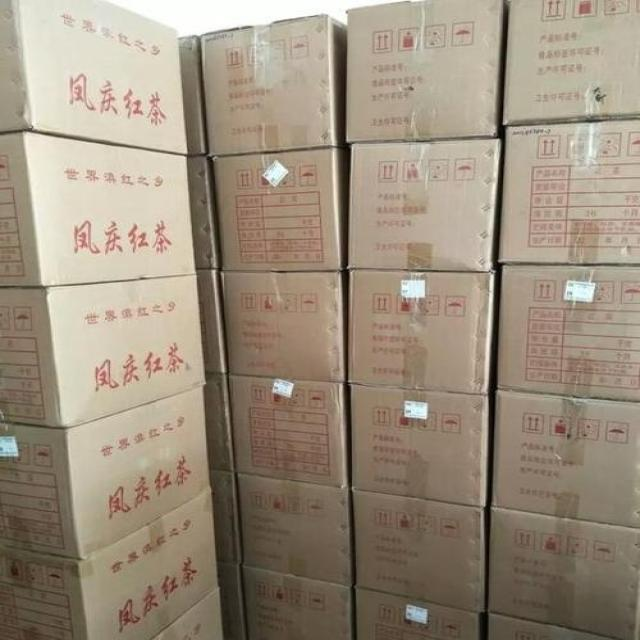box: (0, 386, 211, 560), (0, 489, 218, 640), (0, 275, 207, 430), (0, 132, 197, 287), (344, 0, 506, 143), (499, 117, 640, 265), (490, 390, 640, 529), (200, 14, 347, 155), (348, 140, 503, 272), (489, 507, 640, 640), (497, 265, 640, 402), (348, 266, 499, 394), (351, 384, 490, 508), (503, 0, 640, 125), (214, 148, 349, 272), (352, 490, 489, 612), (220, 270, 347, 383), (228, 375, 351, 489), (237, 474, 356, 586), (243, 566, 356, 640), (356, 588, 484, 640), (489, 613, 636, 640), (151, 588, 225, 640), (188, 156, 221, 269), (177, 36, 207, 156), (197, 270, 230, 373), (204, 374, 237, 471), (211, 469, 243, 564), (218, 563, 247, 640)
